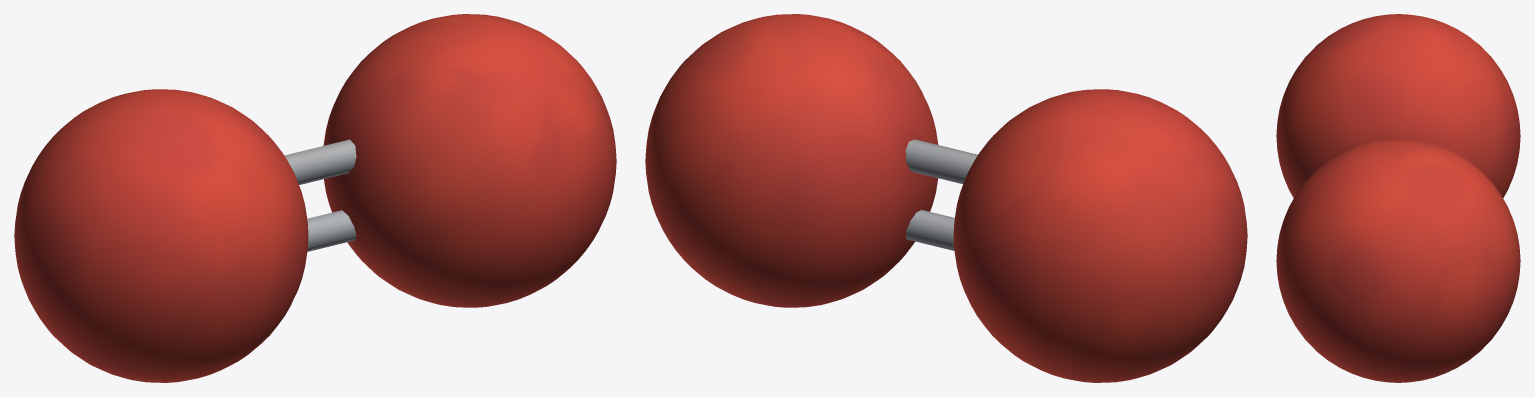
Rendered from o2-molecule.glb.
3 views of the same model, side by side, from view 1: azimuth 30°, elevation 25°; view 2: azimuth 150°, elevation 25°; view 3: azimuth 270°, elevation 25° (orthographic). The views are drawn at different scales.
Parts seen in each view (by area): view 1: o2-molecule-oxygen, o2-molecule-bonds; view 2: o2-molecule-oxygen, o2-molecule-bonds; view 3: o2-molecule-oxygen.
Part boxes in pixels (<box>): o2-molecule-oxygen: <box>14,14,616,382</box>; o2-molecule-bonds: <box>284,139,356,251</box>; o2-molecule-oxygen: <box>645,14,1247,382</box>; o2-molecule-bonds: <box>905,139,977,250</box>; o2-molecule-oxygen: <box>1276,14,1520,382</box>.
Size of what is drawn, in the model's own units: 2.74 by 1.24 by 1.24.
